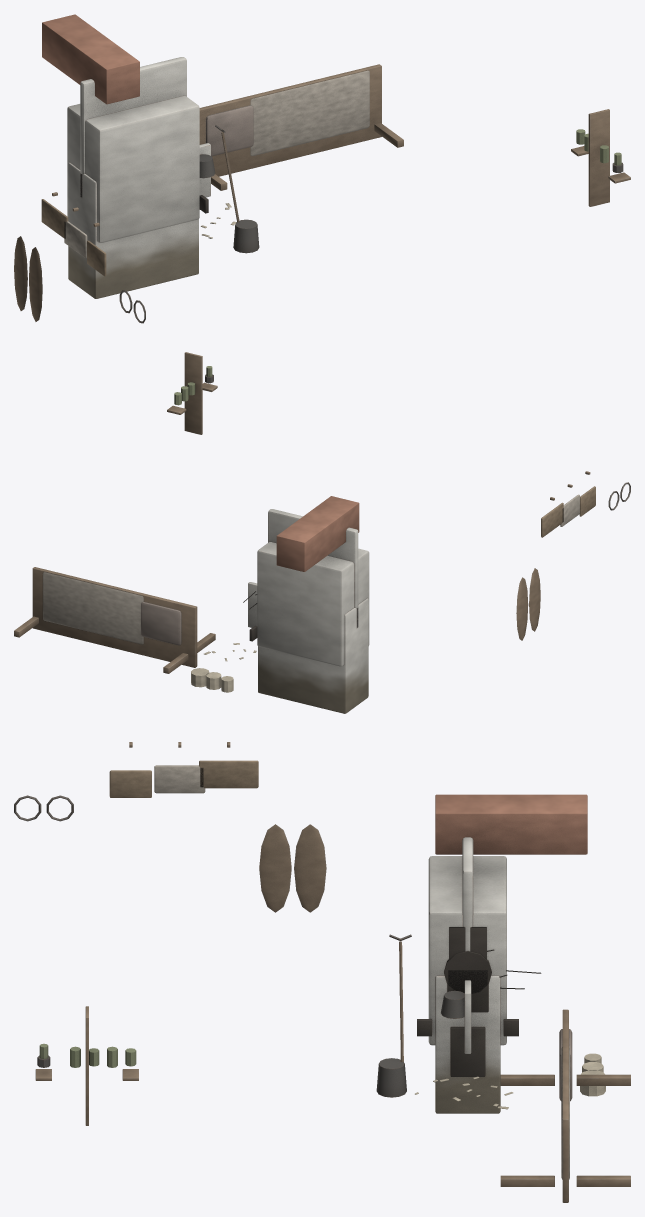
Rendered from izba_interior.glb.
3 renders of one model, top to bottom at view 1: azimuth 30°, elevation 25°; view 2: azimuth 150°, elevation 25°; view 3: azimuth 270°, elevation 25°, orthographic. The views are drawn at different scales.
Visible parts, largest first — view 1: izba_interior; view 2: izba_interior; view 3: izba_interior.
Part boxes in pixels (x1,y1,x2,y2): izba_interior: (14, 14, 630, 323); izba_interior: (14, 352, 630, 713); izba_interior: (14, 742, 630, 1202).
Bounding box in the file's own units: 6.18 × 2.71 × 5.68.
1 material, 1 textured.
